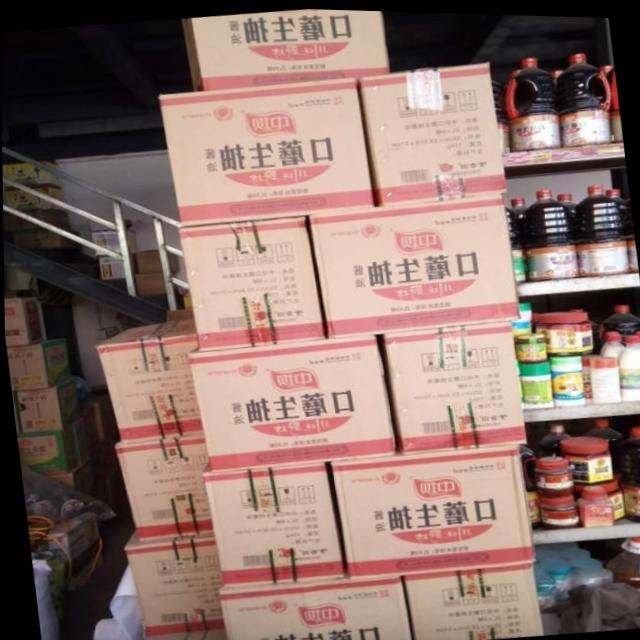box: (158, 74, 374, 226), (308, 190, 520, 336), (186, 332, 395, 471), (329, 440, 534, 577), (356, 59, 506, 204), (177, 214, 323, 351), (381, 317, 525, 453), (200, 460, 342, 587), (181, 7, 389, 90), (94, 317, 202, 443), (216, 572, 410, 640), (402, 560, 541, 640), (122, 529, 222, 637), (113, 434, 210, 540), (142, 627, 226, 640)
